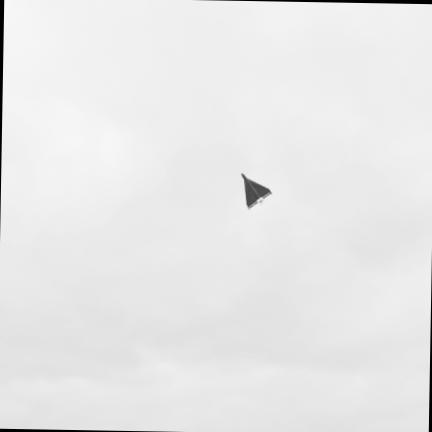Shahed: (243, 177, 270, 208)
